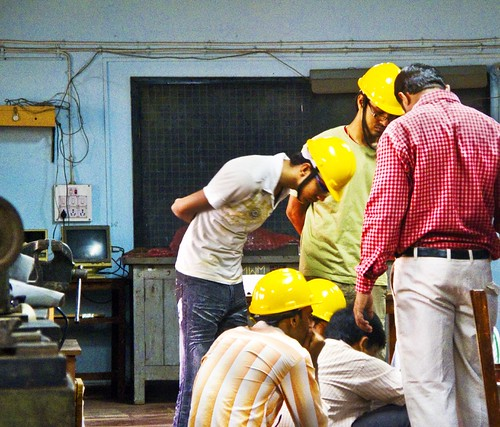person hardhat: (155, 129, 356, 409), (297, 54, 394, 422), (202, 266, 325, 427), (305, 264, 354, 361)
